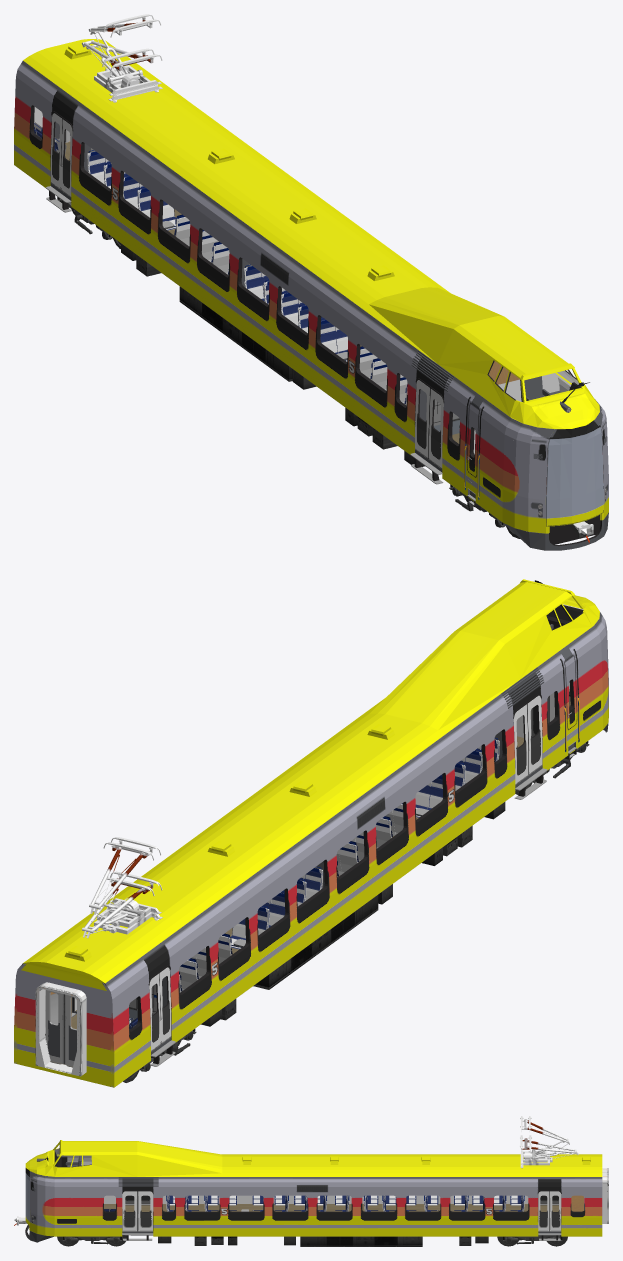
File: mrwicmmfront.obj
3 views of the same model, one above another, from view 1: azimuth 30°, elevation 25°; view 2: azimuth 150°, elevation 25°; view 3: azimuth 270°, elevation 25° (orthographic). The views are drawn at different scales.
Visible parts, largest first — view 1: side, jibung, chair_second, front, side_front, habu, jibungparts, m_panto6m, door_RF, door_RB, m_panto, frontparts (+5 smaller); view 2: side, jibung, chair_second, backout, habu, mak, m_panto6m, jibungparts, backdoor, m_panto, door_RF, door_RB (+4 smaller); view 3: side, jibung, chair_second, habu, badak, side_front, DT71, door_LB, inside, door_LF, m_panto6m, jibungparts (+7 smaller).
Boxes of the visible parts, x1=… form: side: x1=14, y1=61, x2=571, y2=522; jibung: x1=23, y1=39, x2=599, y2=428; chair_second: x1=87, y1=150, x2=407, y2=405; front: x1=546, y1=419, x2=603, y2=533; side_front: x1=502, y1=399, x2=608, y2=533; habu: x1=121, y1=243, x2=600, y2=544; jibungparts: x1=64, y1=43, x2=454, y2=391; m_panto6m: x1=88, y1=14, x2=161, y2=96; door_RF: x1=61, y1=119, x2=443, y2=468; door_RB: x1=50, y1=113, x2=430, y2=458; m_panto: x1=81, y1=40, x2=162, y2=102; frontparts: x1=503, y1=382, x2=608, y2=550; side: x1=14, y1=625, x2=602, y2=1087; jibung: x1=24, y1=582, x2=599, y2=983; chair_second: x1=179, y1=738, x2=499, y2=992; backout: x1=17, y1=962, x2=110, y2=1086; habu: x1=201, y1=789, x2=515, y2=1026; mak: x1=35, y1=982, x2=86, y2=1076; m_panto6m: x1=89, y1=837, x2=161, y2=927; jibungparts: x1=64, y1=667, x2=544, y2=961; backdoor: x1=45, y1=990, x2=76, y2=1066; m_panto: x1=82, y1=871, x2=162, y2=938; door_RF: x1=159, y1=695, x2=542, y2=1043; door_RB: x1=149, y1=704, x2=528, y2=1051; side: x1=54, y1=1154, x2=602, y2=1236; jibung: x1=25, y1=1141, x2=602, y2=1176; chair_second: x1=166, y1=1195, x2=524, y2=1211; habu: x1=131, y1=1235, x2=488, y2=1246; badak: x1=104, y1=1204, x2=558, y2=1211; side_front: x1=30, y1=1171, x2=54, y2=1236; DT71: x1=57, y1=1235, x2=567, y2=1246; door_LB: x1=137, y1=1191, x2=561, y2=1231; inside: x1=67, y1=1161, x2=528, y2=1203; door_LF: x1=122, y1=1191, x2=549, y2=1231; m_panto6m: x1=520, y1=1116, x2=569, y2=1165; jibungparts: x1=118, y1=1156, x2=590, y2=1186.
Size of the model in its own units: 3.17 by 5.74 by 26.18.
Materials: 38 (37 with a texture image).
